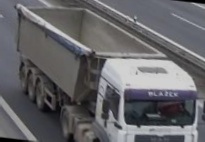truck: (4, 2, 205, 142)
